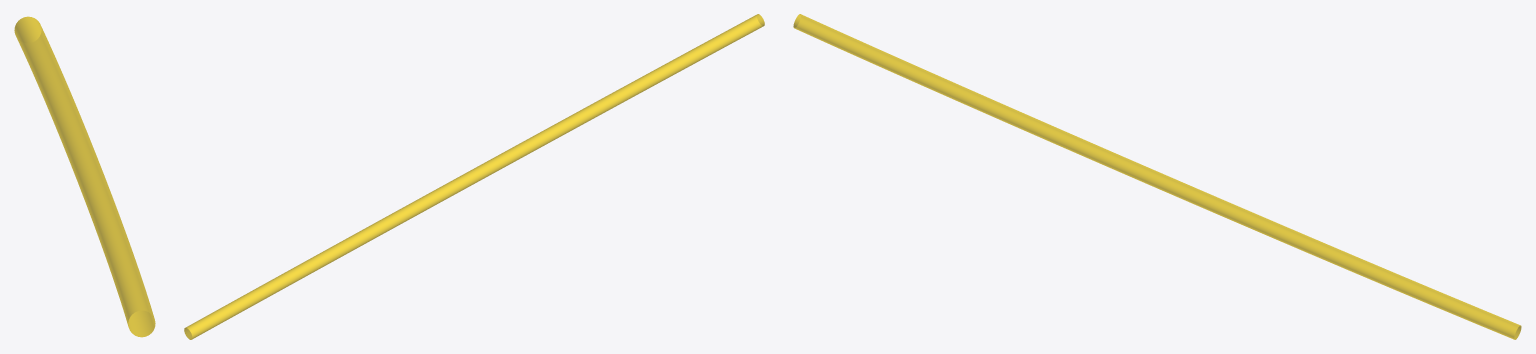
File: Event_402970704_track_12.fbx
3 renders of one model, left to right at view 1: azimuth 90°, elevation 25°; view 2: azimuth 210°, elevation 25°; view 3: azimuth 330°, elevation 25°, orthographic. The views are drawn at different scales.
Visible parts, largest first — view 1: Model; view 2: Model; view 3: Model.
Part boxes in pixels (bbox=[...]): Model: bbox=[14, 16, 155, 337]; Model: bbox=[184, 14, 764, 339]; Model: bbox=[793, 14, 1521, 339].
Size of the model in its own units: 2.04 by 0.5107 by 0.2061.
